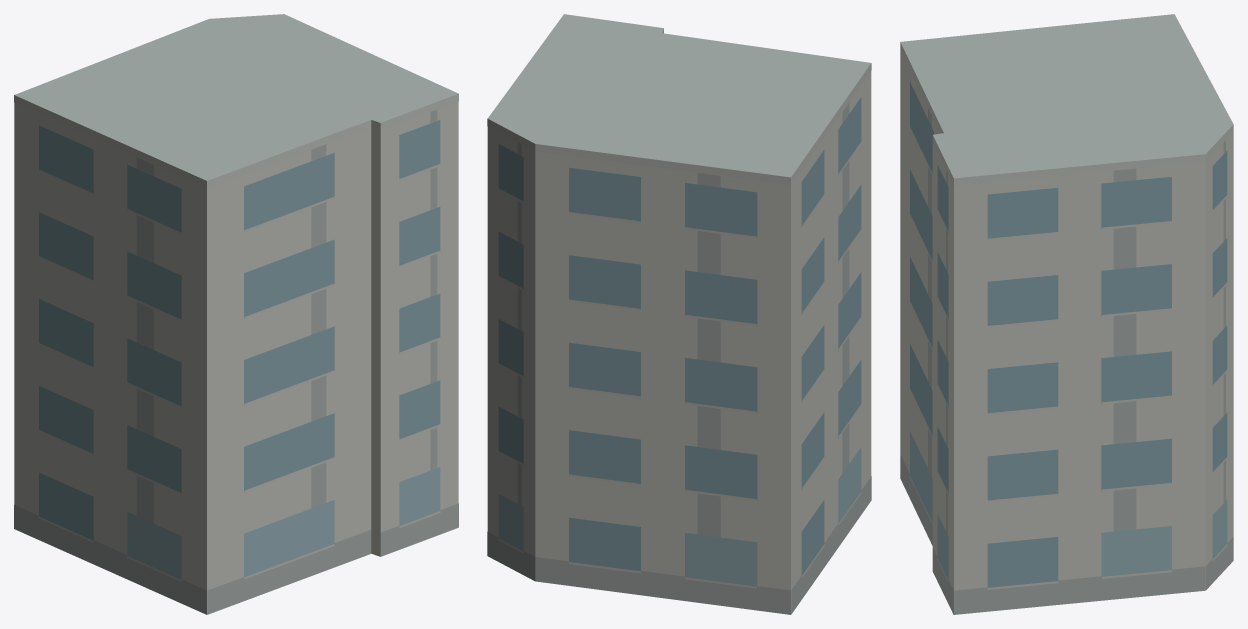
File: survey-upis-32802673.glb
3 renders of one model, left to right at view 1: azimuth 30°, elevation 25°; view 2: azimuth 150°, elevation 25°; view 3: azimuth 270°, elevation 25°, orthographic.
Parts seen in each view (by area): view 1: survey-upis-32802673.tmp; view 2: survey-upis-32802673.tmp; view 3: survey-upis-32802673.tmp.
Boxes of the visible parts, x1=… form: survey-upis-32802673.tmp: x1=14, y1=14, x2=458, y2=614; survey-upis-32802673.tmp: x1=487, y1=14, x2=871, y2=614; survey-upis-32802673.tmp: x1=900, y1=14, x2=1233, y2=614.
Size of the model in its own units: 11.16 by 13.8 by 9.56.
